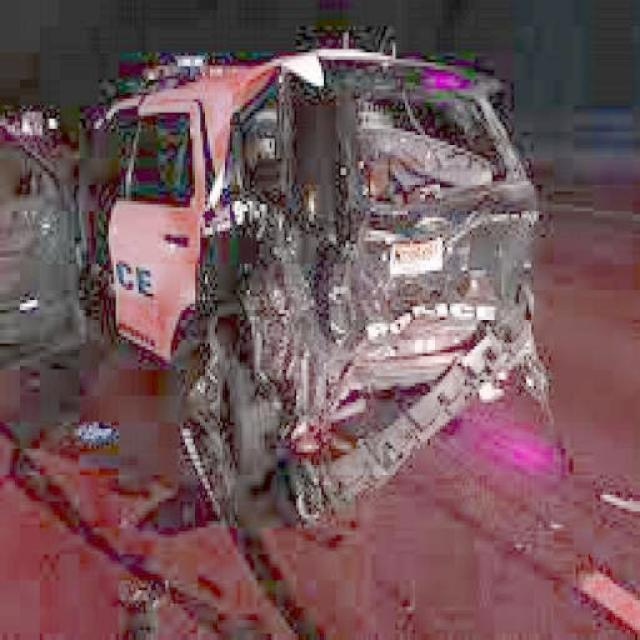car damage: (192, 49, 546, 517)
